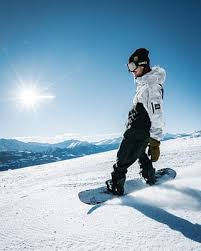snowboarder: (76, 46, 177, 206)
